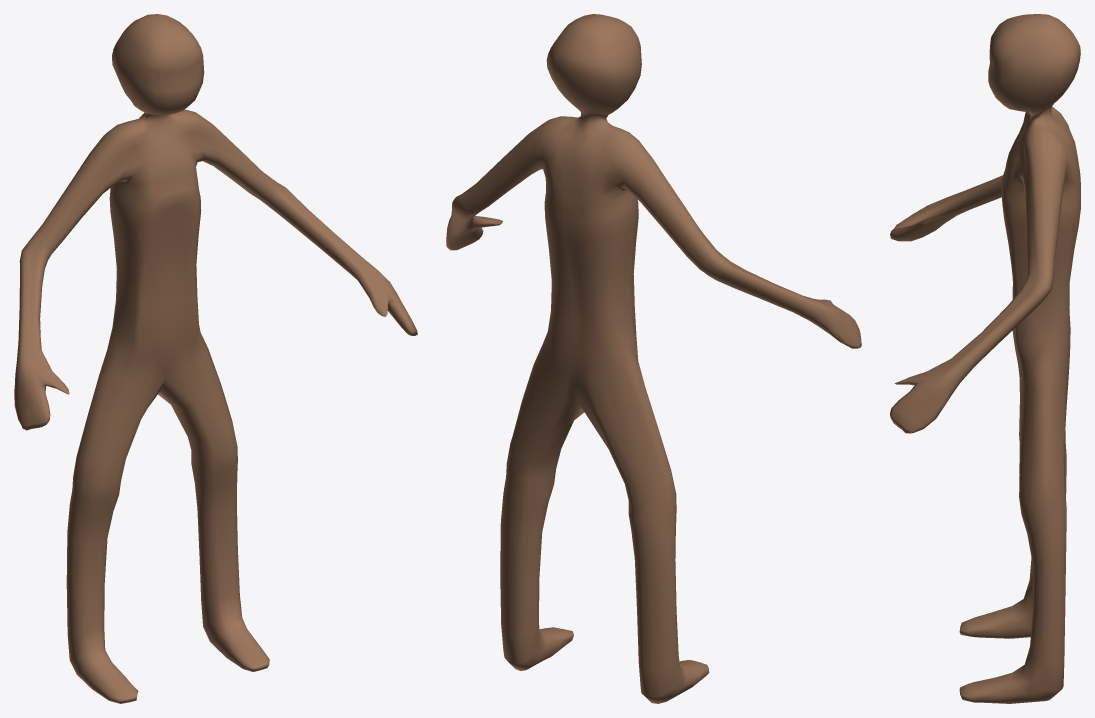
Rendered from Rough_Hir_smooth.obj.
3 renders of one model, left to right at view 1: azimuth 30°, elevation 25°; view 2: azimuth 150°, elevation 25°; view 3: azimuth 270°, elevation 25°, orthographic. The views are drawn at different scales.
Parts seen in each view (by area): view 1: verylowpoly.obj.sub; view 2: verylowpoly.obj.sub; view 3: verylowpoly.obj.sub.
Part boxes in pixels (bbox=[...]): verylowpoly.obj.sub: bbox=[14, 14, 417, 703]; verylowpoly.obj.sub: bbox=[446, 14, 861, 703]; verylowpoly.obj.sub: bbox=[890, 14, 1080, 703].
Size of the model in its own units: 1.5 by 2.35 by 0.624.
